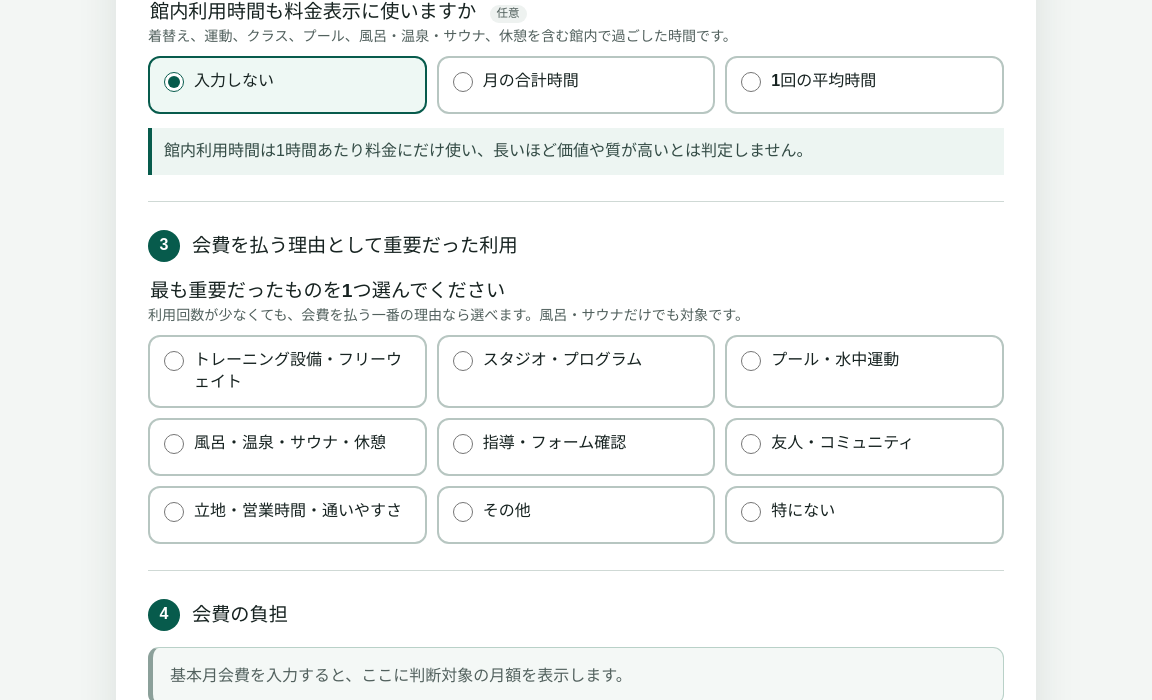
GFR-G1R9 Calculator › スタジオと通いやすさで質問と5回答を同時に切り替える
The width and height of the screenshot is (1152, 700).
(page scrolled)
Click the radio button labelled "スタジオ・プログラム". click: (463,361)
box: [453,351,473,371]
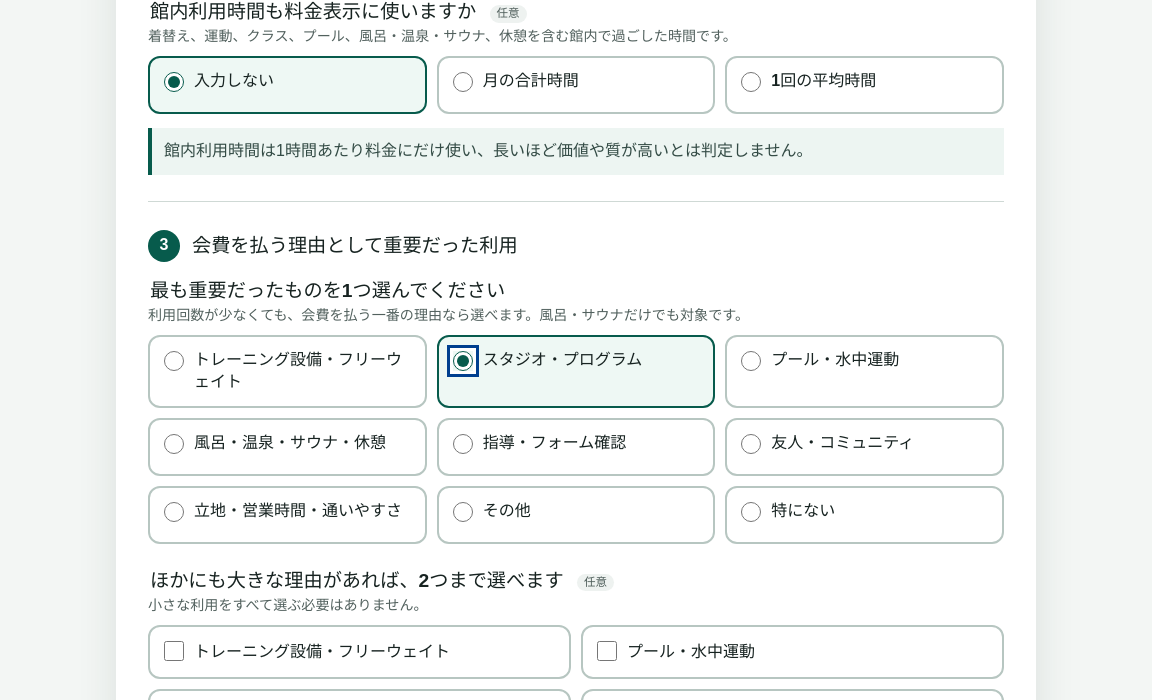
Click the radio button labelled "立地・営業時間・通いやすさ". click: (174,512)
box: [164,502,184,522]
(page scrolled)
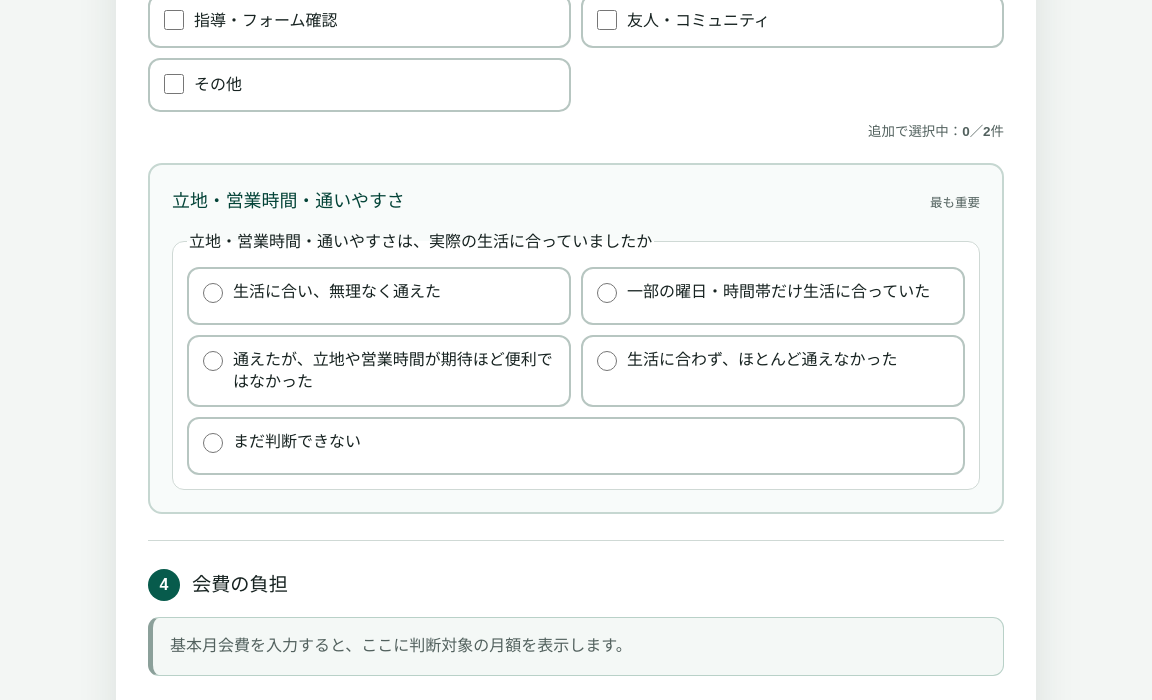
Now the radio button labelled "生活に合い、無理なく通えた" is shown, box [203,283,223,303]
Now the radio button labelled "生活に合わず、ほとんど通えなかった" is shown, box [597,351,617,371]
